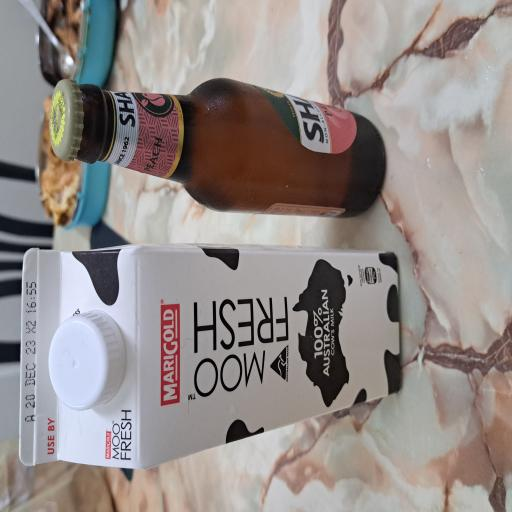drink carton: (32, 23, 203, 512)
glass bottle: (219, 65, 325, 512)
plastic bottle cap: (75, 64, 152, 168)
